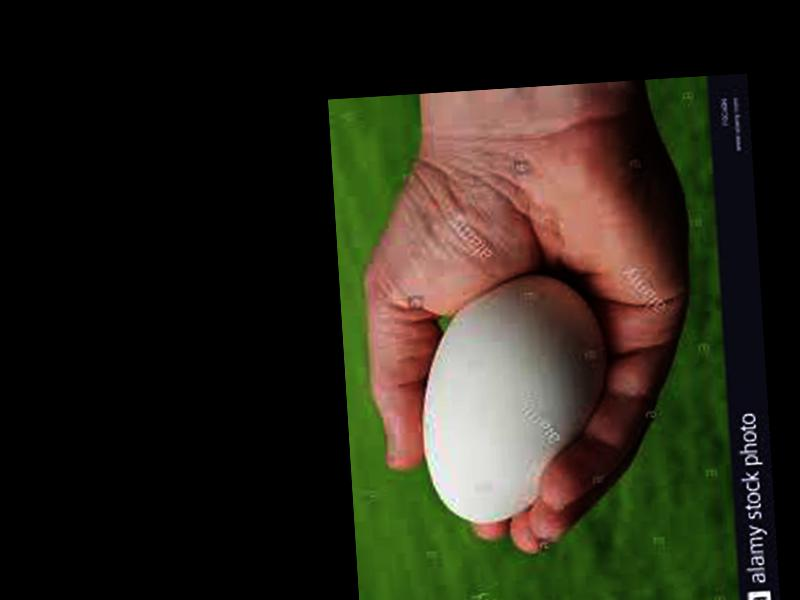Eggs: (411, 266, 617, 525)
